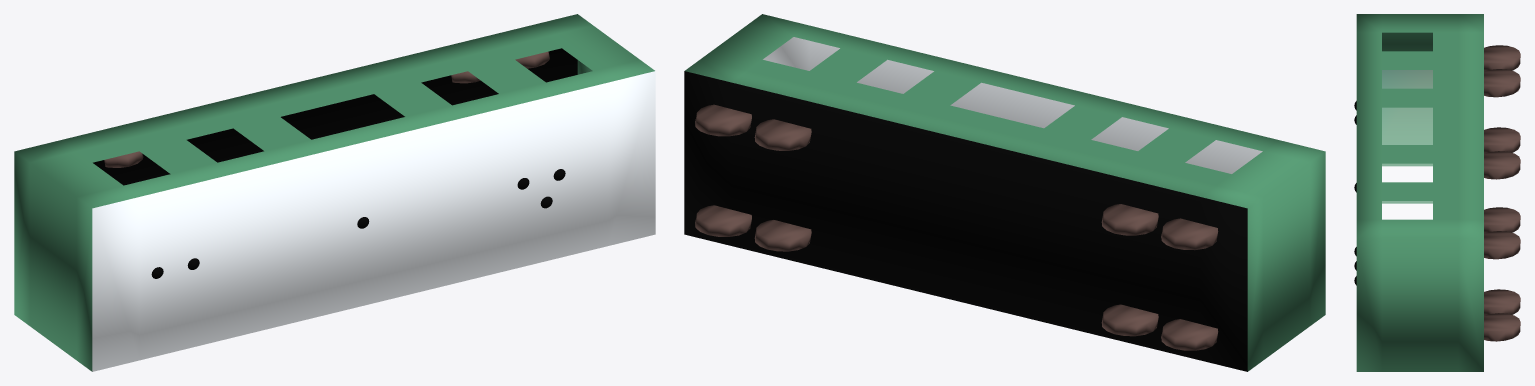
The model's file is asset2.glb.
3 renders of one model, left to right at view 1: azimuth 30°, elevation 25°; view 2: azimuth 150°, elevation 25°; view 3: azimuth 270°, elevation 25°, orthographic. The views are drawn at different scales.
Parts seen in each view (by area): view 1: Cube1; view 2: Cube1, Cylinder8_copy13, Cylinder8_copy10, Cylinder8_copy9, Cylinder8_copy14, Cylinder8_copy11, Cylinder8_copy15, Cylinder8, Cylinder8_copy12; view 3: Cube1, Cube16, Cylinder8_copy15, Cylinder8_copy11, Cylinder8_copy14, Cylinder8_copy10, Cylinder8_copy13, Cylinder8_copy9, Cylinder8_copy12, Cylinder8.
Part boxes in pixels (<box>): Cube1: <box>14,14,655,371</box>; Cube1: <box>684,14,1325,371</box>; Cylinder8_copy13: <box>754,220,811,251</box>; Cylinder8_copy10: <box>1101,204,1158,235</box>; Cylinder8_copy9: <box>1161,319,1218,350</box>; Cylinder8_copy14: <box>695,104,751,136</box>; Cylinder8_copy11: <box>1101,304,1158,336</box>; Cylinder8_copy15: <box>695,205,751,236</box>; Cylinder8: <box>1161,218,1218,250</box>; Cylinder8_copy12: <box>754,119,811,150</box>; Cube1: <box>1356,14,1483,371</box>; Cube16: <box>1382,70,1432,219</box>; Cylinder8_copy15: <box>1484,313,1520,341</box>; Cylinder8_copy11: <box>1484,151,1520,179</box>; Cylinder8_copy14: <box>1484,231,1520,259</box>; Cylinder8_copy10: <box>1484,69,1520,97</box>; Cylinder8_copy13: <box>1484,289,1520,315</box>; Cylinder8_copy9: <box>1484,127,1520,153</box>; Cylinder8_copy12: <box>1484,207,1520,233</box>; Cylinder8: <box>1484,45,1520,71</box>.
Bounding box in the file's own units: 1 × 0.2774 × 0.3131.
